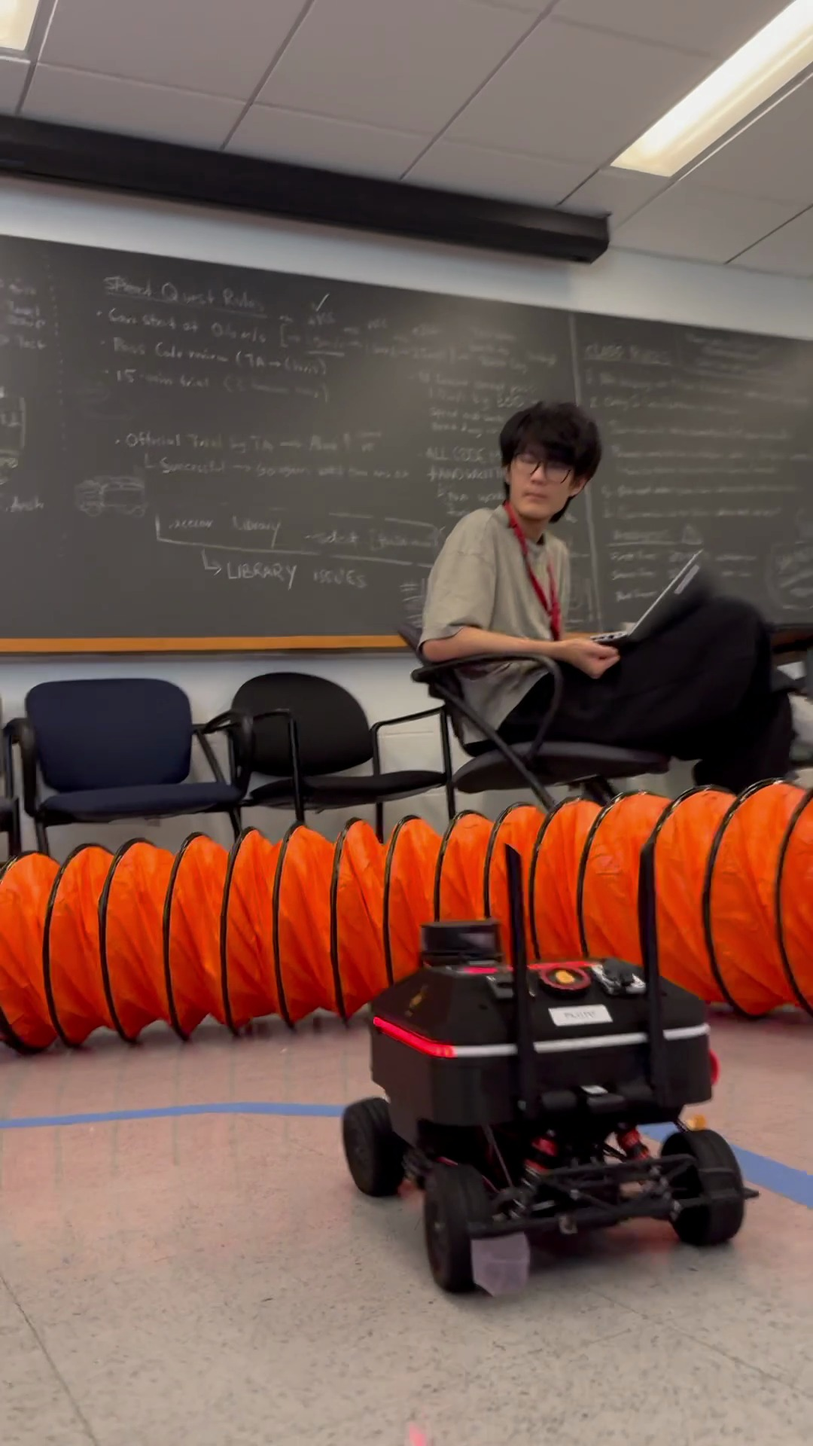racecar: (341, 834, 752, 1301)
